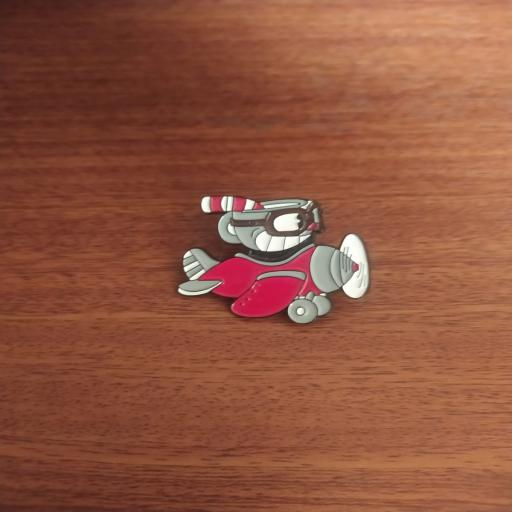Pin: (162, 184, 380, 332)
